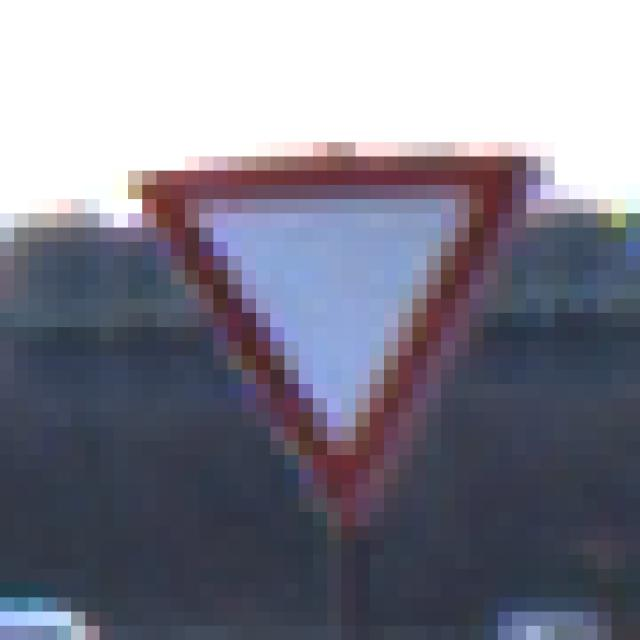Give Way: (72, 72, 570, 570)
